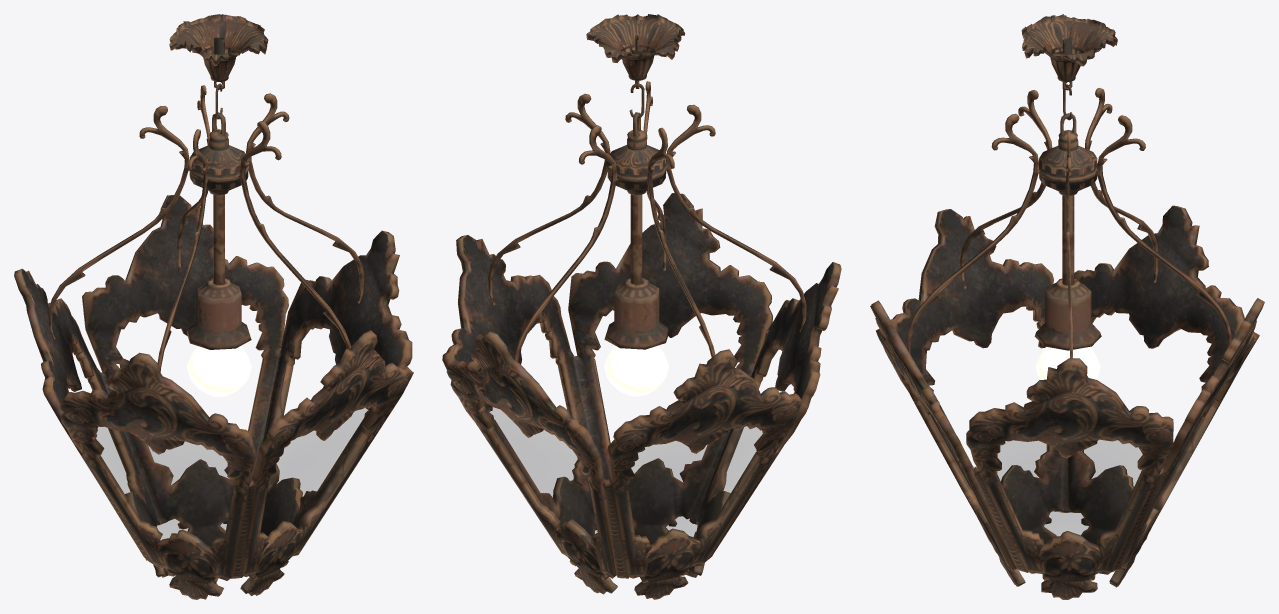
File: lantern_chandelier_01.glb
3 renders of one model, left to right at view 1: azimuth 30°, elevation 25°; view 2: azimuth 150°, elevation 25°; view 3: azimuth 270°, elevation 25°, orthographic.
Visible parts, largest first — view 1: lantern_chandelier_01; view 2: lantern_chandelier_01; view 3: lantern_chandelier_01.
Part boxes in pixels (x1=…): lantern_chandelier_01: x1=14, y1=14, x2=413, y2=599; lantern_chandelier_01: x1=442, y1=14, x2=841, y2=599; lantern_chandelier_01: x1=870, y1=14, x2=1264, y2=599.
Size of the model in its own units: 0.5792 by 0.8776 by 0.5746.
Materials: 3 (2 with a texture image).
